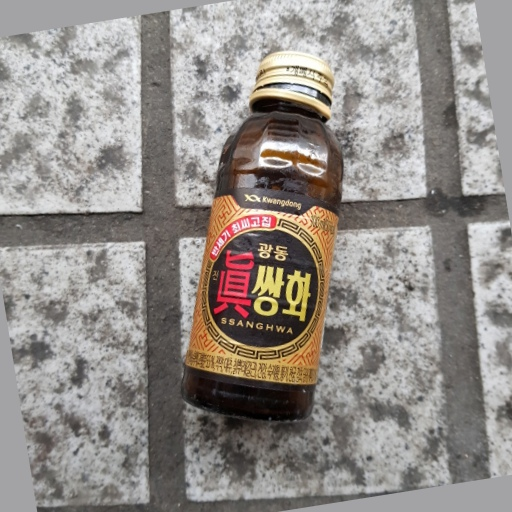Glass_3: (180, 47, 349, 424)
